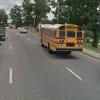Bus: (34, 20, 87, 58)
